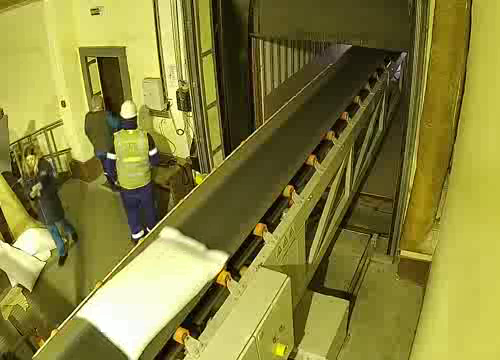bag: (73, 222, 231, 359)
